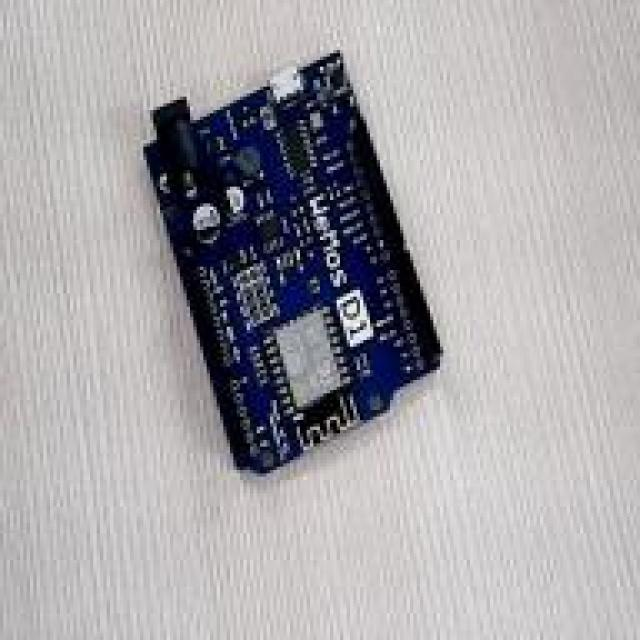Wemos: (144, 54, 438, 471)
